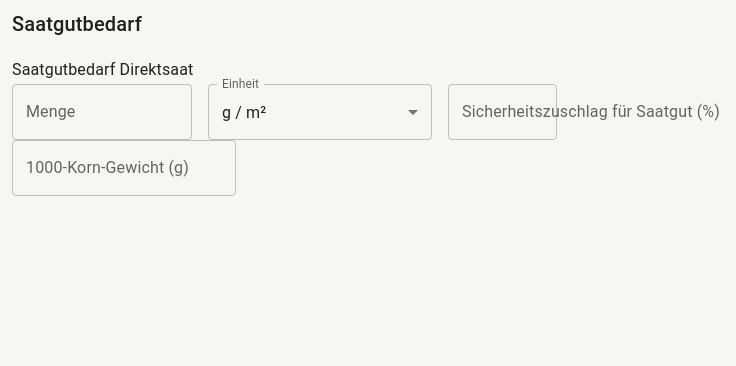
Test: culture form UI sections › hides the seed unit tooltip while the dropdown menu is open
Hover over the dropdown: (244, 112) [222,102,266,122]
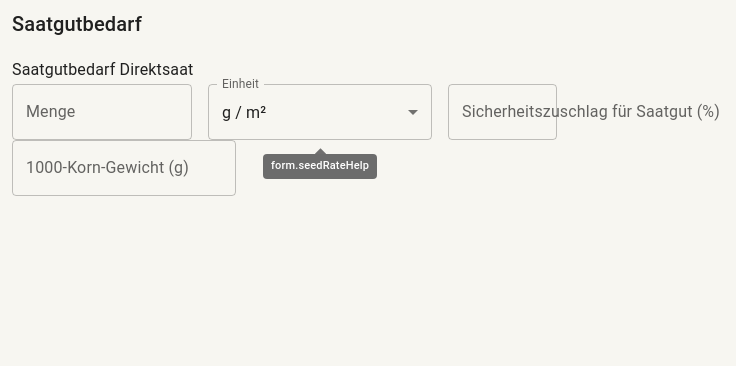
Expected: the tooltip reads "form.seedRateHelp", [271,159,369,172]
Press the mouse on the dropdown: (244, 112) [222,102,266,122]
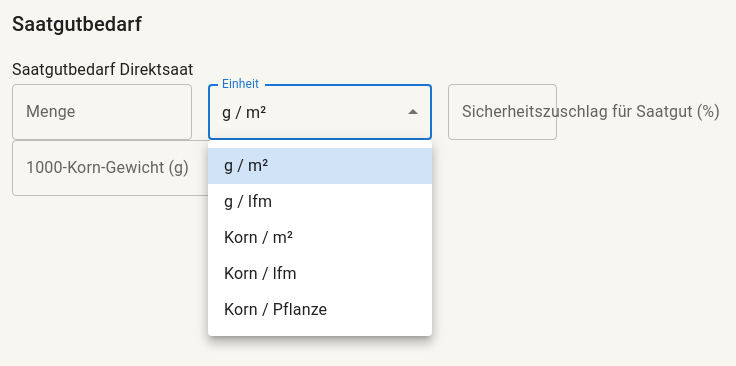
Expected: the tooltip "form.seedRateHelp" is gone
